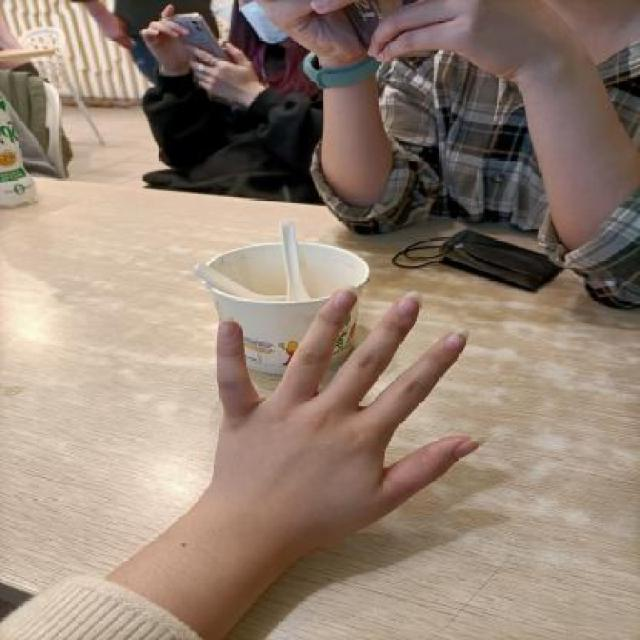bare_hand: (183, 274, 500, 563)
